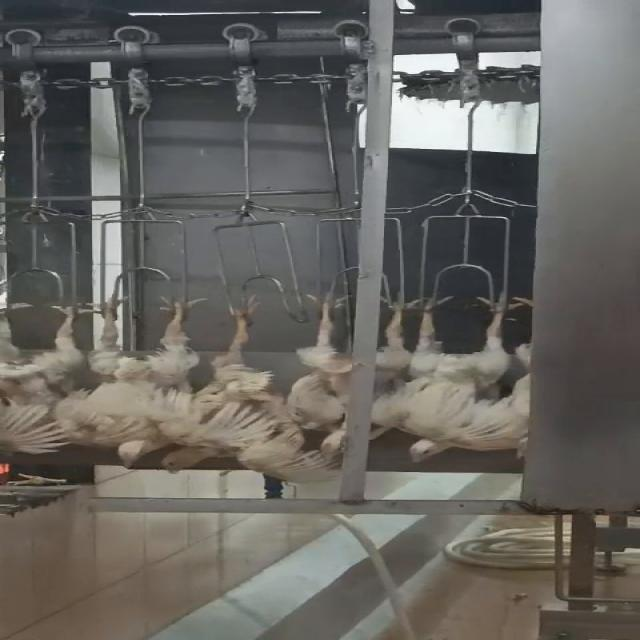chicken: (398, 297, 523, 464), (89, 291, 200, 472), (202, 298, 300, 474), (0, 300, 99, 454), (286, 288, 360, 458)
